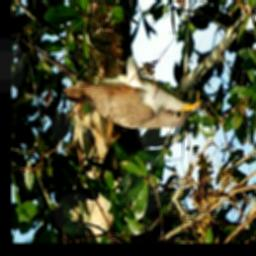Cuckoo: (60, 38, 204, 132)
